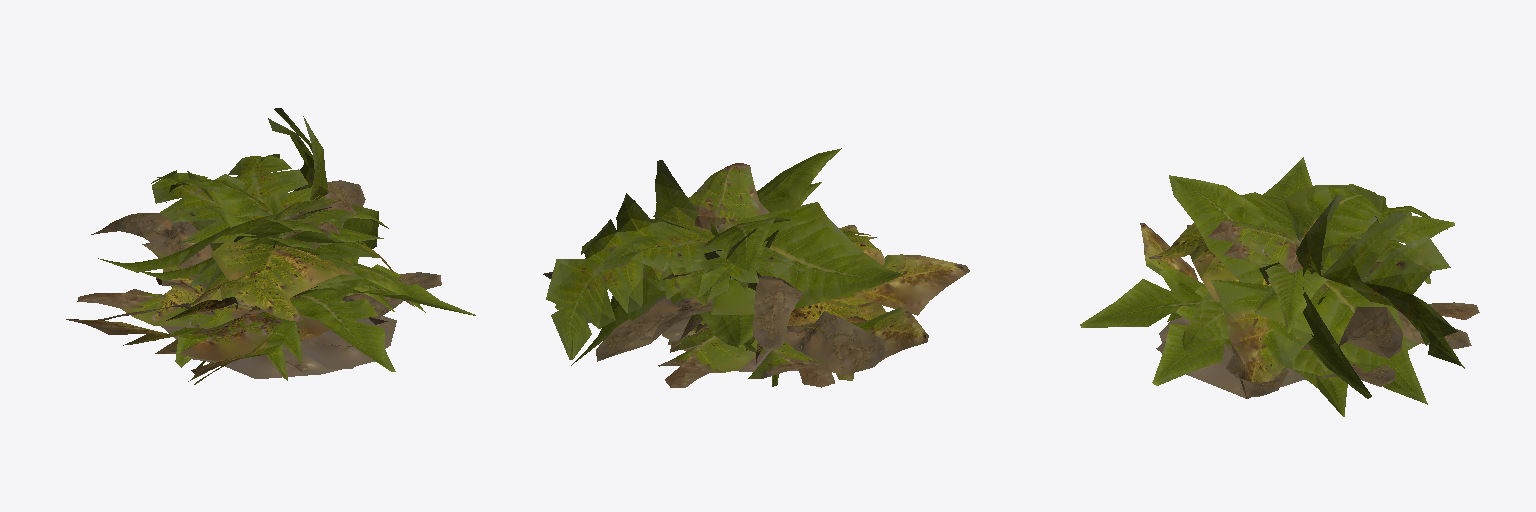
3 renders of one model, left to right at view 1: azimuth 30°, elevation 25°; view 2: azimuth 150°, elevation 25°; view 3: azimuth 270°, elevation 25°, orthographic.
Visible parts, largest first — view 1: _7eea_Var6_LOD0.001_Mesh.031, _089b_Var5_LOD0.001_Mesh.030, _089b_Var5_LOD0_Mesh.028, _27e3_Var4_LOD0_Mesh.027, _41f8_Var3_LOD0_Mesh.026, _7eea_Var6_LOD0_Mesh.029; view 2: _7eea_Var6_LOD0.001_Mesh.031, _41f8_Var3_LOD0_Mesh.026, _27e3_Var4_LOD0_Mesh.027, _089b_Var5_LOD0.001_Mesh.030, _089b_Var5_LOD0_Mesh.028; view 3: _7eea_Var6_LOD0.001_Mesh.031, _41f8_Var3_LOD0_Mesh.026, _089b_Var5_LOD0.001_Mesh.030, _089b_Var5_LOD0_Mesh.028, _27e3_Var4_LOD0_Mesh.027, _7eea_Var6_LOD0_Mesh.029.
Part boxes in pixels (x1,y1,x2,y2): _7eea_Var6_LOD0.001_Mesh.031: (98,179,425,312); _089b_Var5_LOD0.001_Mesh.030: (66,154,441,378); _089b_Var5_LOD0_Mesh.028: (77,170,475,384); _27e3_Var4_LOD0_Mesh.027: (91,187,387,360); _41f8_Var3_LOD0_Mesh.026: (157,108,378,288); _7eea_Var6_LOD0_Mesh.029: (142,206,394,311); _7eea_Var6_LOD0.001_Mesh.031: (571,148,904,365); _41f8_Var3_LOD0_Mesh.026: (543,160,778,361); _27e3_Var4_LOD0_Mesh.027: (663,225,887,374); _089b_Var5_LOD0.001_Mesh.030: (598,215,928,387); _089b_Var5_LOD0_Mesh.028: (585,221,969,387); _7eea_Var6_LOD0.001_Mesh.031: (1169,157,1427,416); _41f8_Var3_LOD0_Mesh.026: (1296,186,1471,398); _089b_Var5_LOD0.001_Mesh.030: (1080,236,1479,397); _089b_Var5_LOD0_Mesh.028: (1140,206,1447,398); _27e3_Var4_LOD0_Mesh.027: (1149,216,1439,353); _7eea_Var6_LOD0_Mesh.029: (1223,243,1353,364).
Size of the model in its own units: 1.37 by 0.7409 by 1.35.
1 materials, 1 textured.